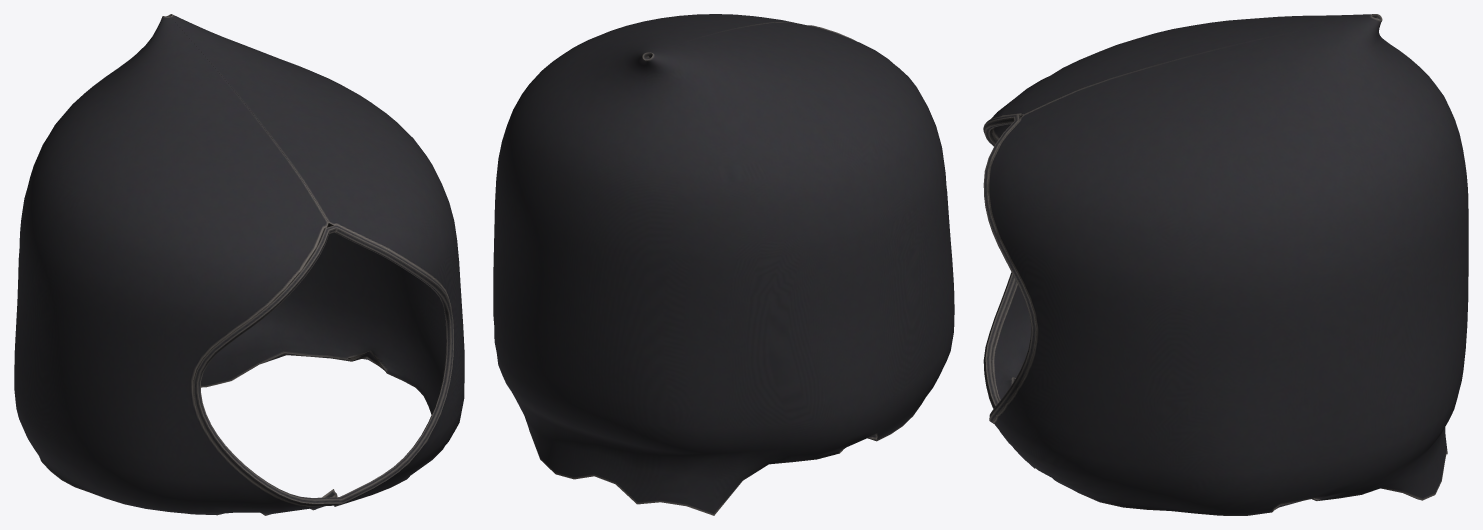
Rendered from NHAcc_TatteredHood.fbx.
3 renders of one model, left to right at view 1: azimuth 30°, elevation 25°; view 2: azimuth 150°, elevation 25°; view 3: azimuth 270°, elevation 25°, orthographic. The views are drawn at different scales.
Parts seen in each view (by area): view 1: TatteredHood; view 2: TatteredHood; view 3: TatteredHood.
Boxes of the visible parts, x1=… form: TatteredHood: x1=14, y1=14, x2=464, y2=515; TatteredHood: x1=493, y1=14, x2=954, y2=515; TatteredHood: x1=983, y1=14, x2=1468, y2=515.
Bounding box in the file's own units: 1.71 × 1.75 × 1.69.
